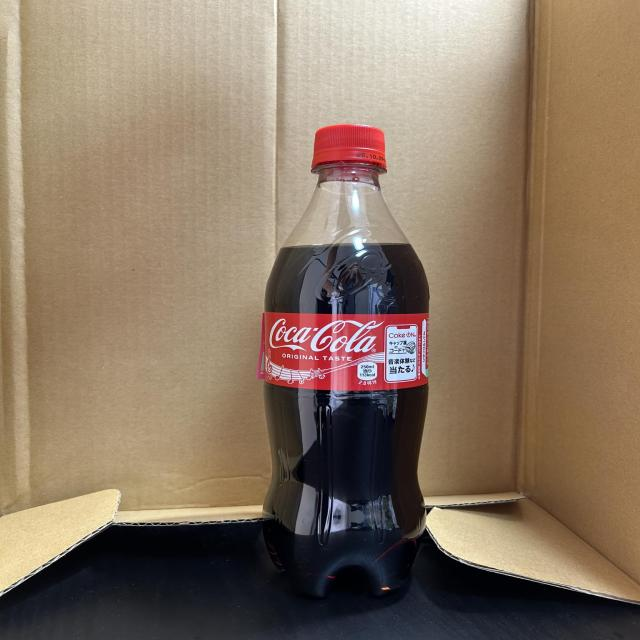high: (261, 124, 429, 596)
